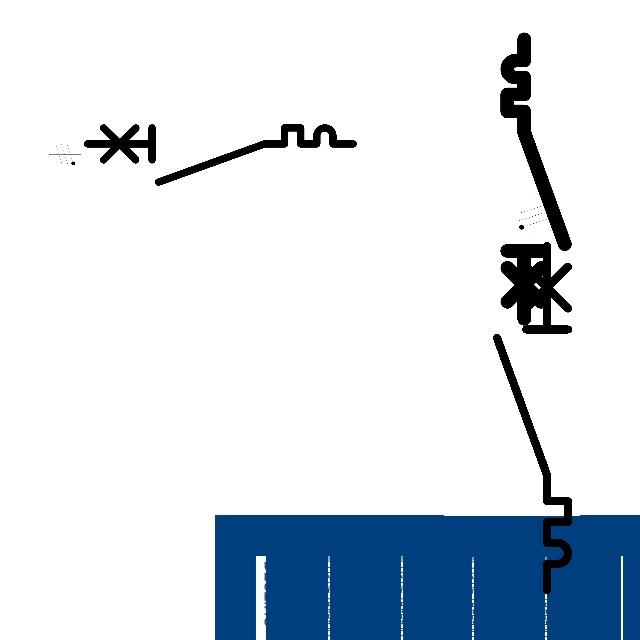interruptor_termomagnetico: (488, 237, 577, 599), (500, 32, 572, 326), (80, 121, 360, 189)
